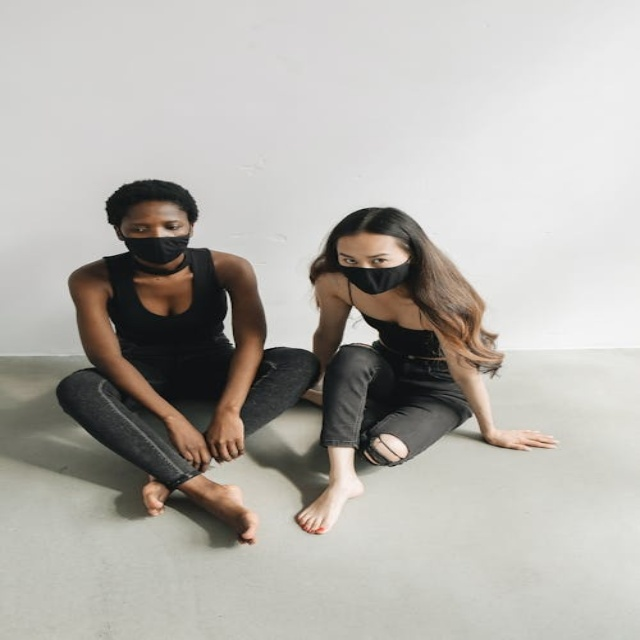Mascara: (338, 255, 411, 294), (121, 232, 191, 266)
Sin_gafas: (335, 250, 398, 266), (119, 216, 188, 230)
Sin_guantes: (479, 423, 567, 455), (161, 413, 210, 466), (204, 410, 251, 463)
